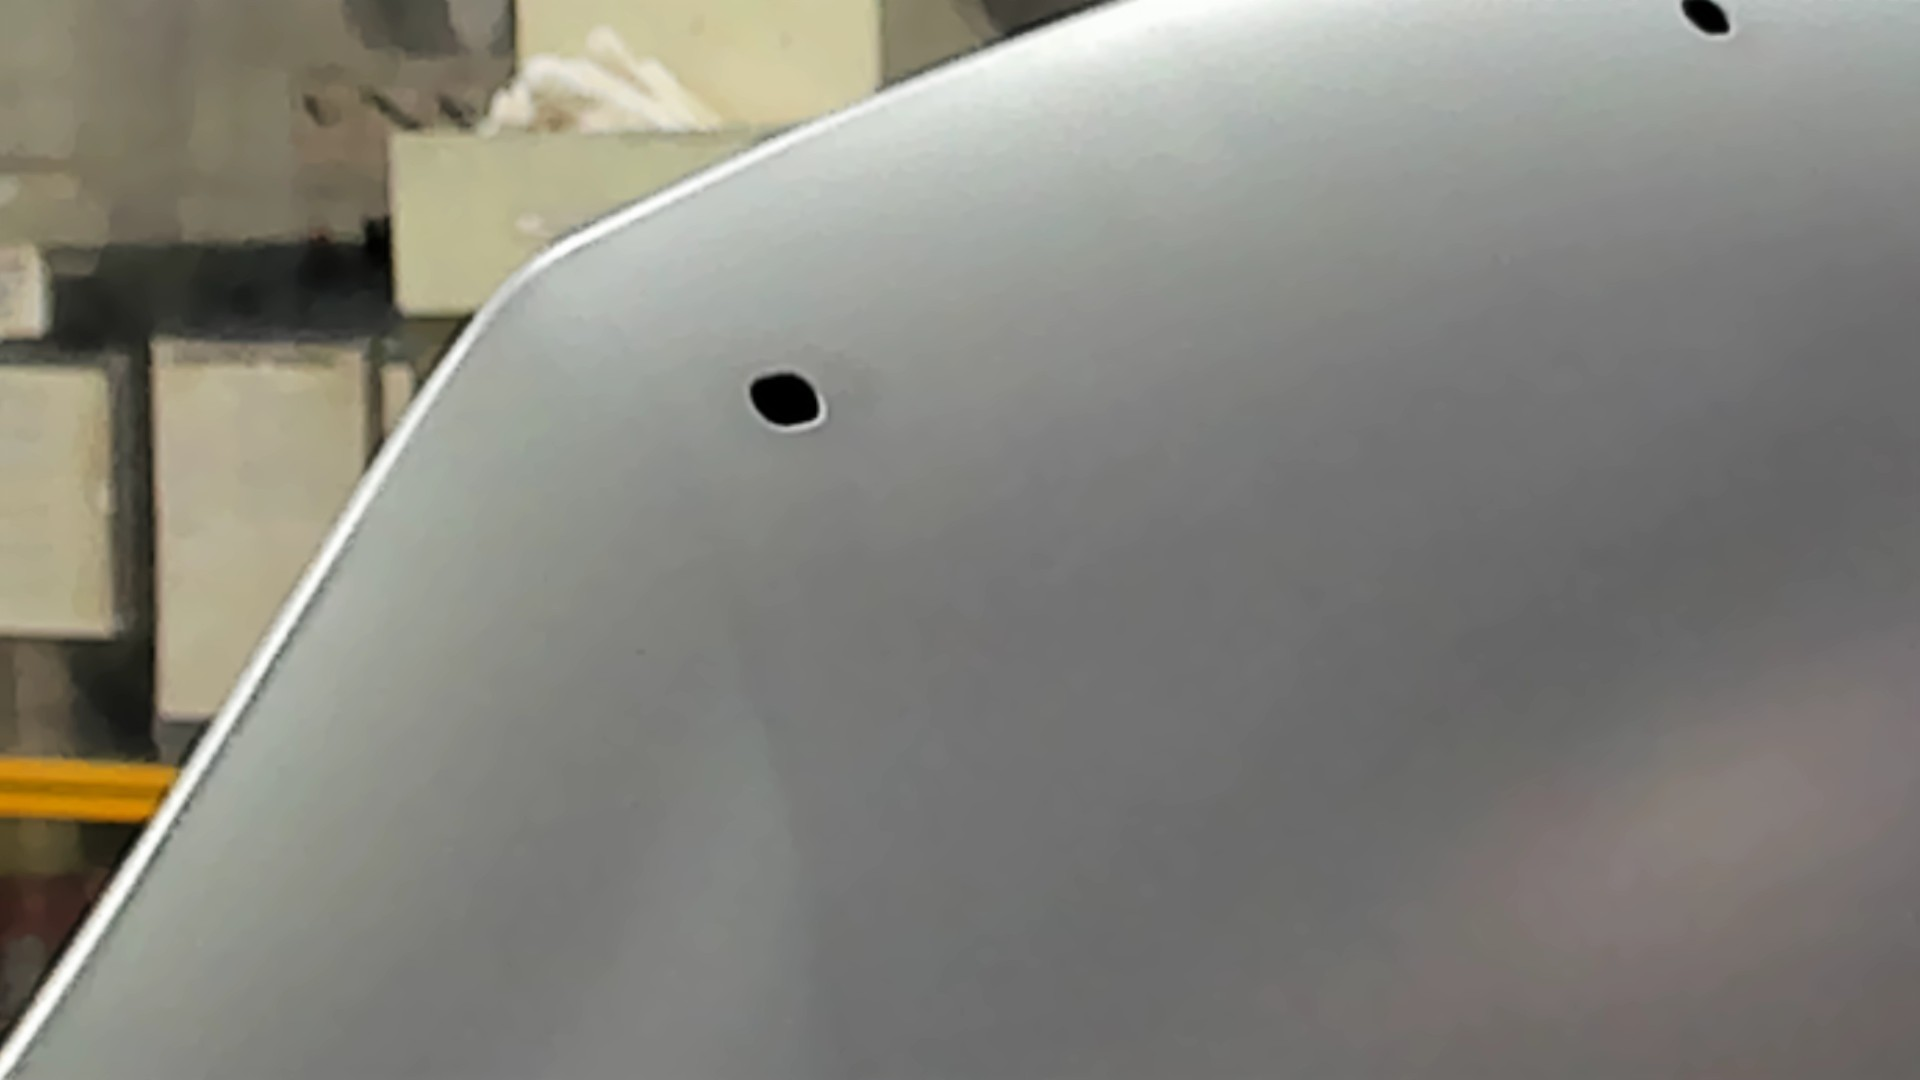amorfo: (738, 363, 833, 442), (1671, 1, 1739, 47)
capo: (923, 115, 1920, 1080)
